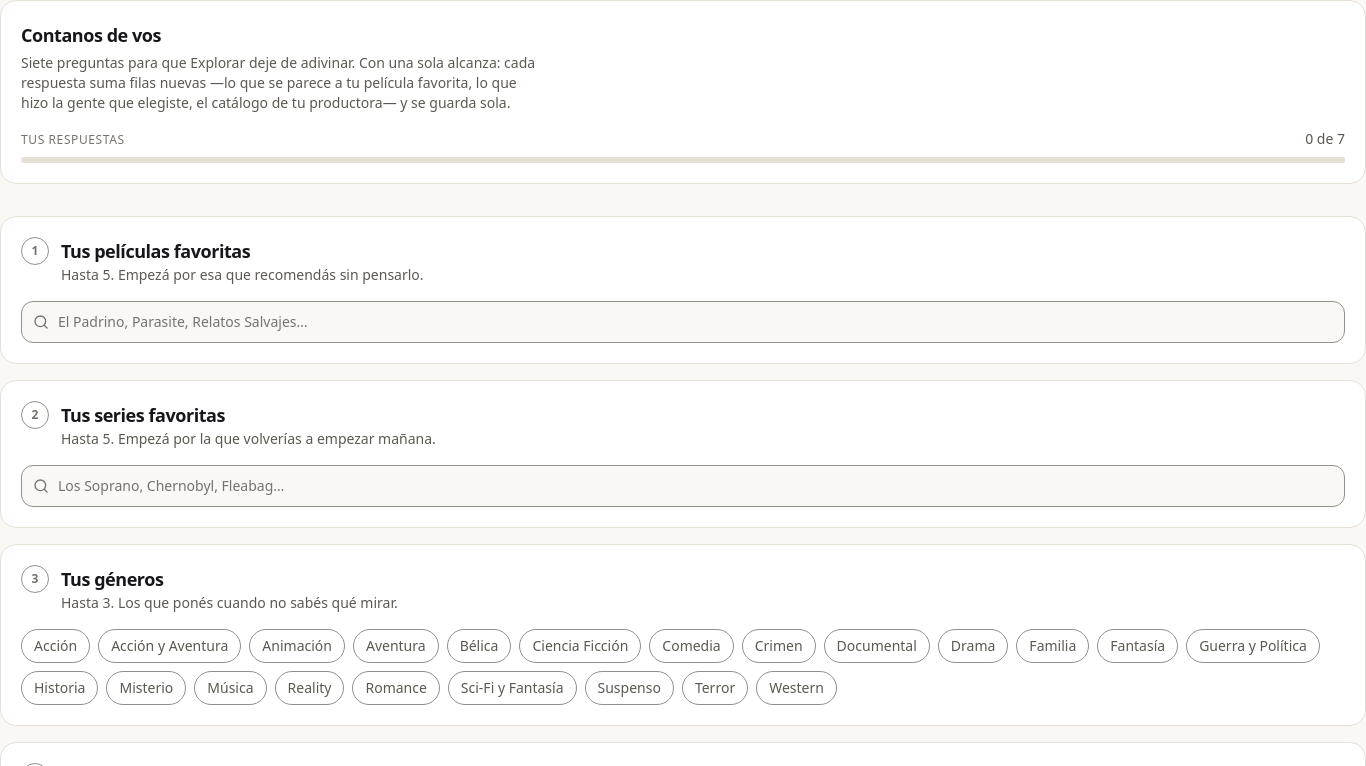
Contanos de vos › guarda el género que se elige y cuenta la respuesta
Click the button "Terror".
click(715, 688)  # box [682,671,748,705]
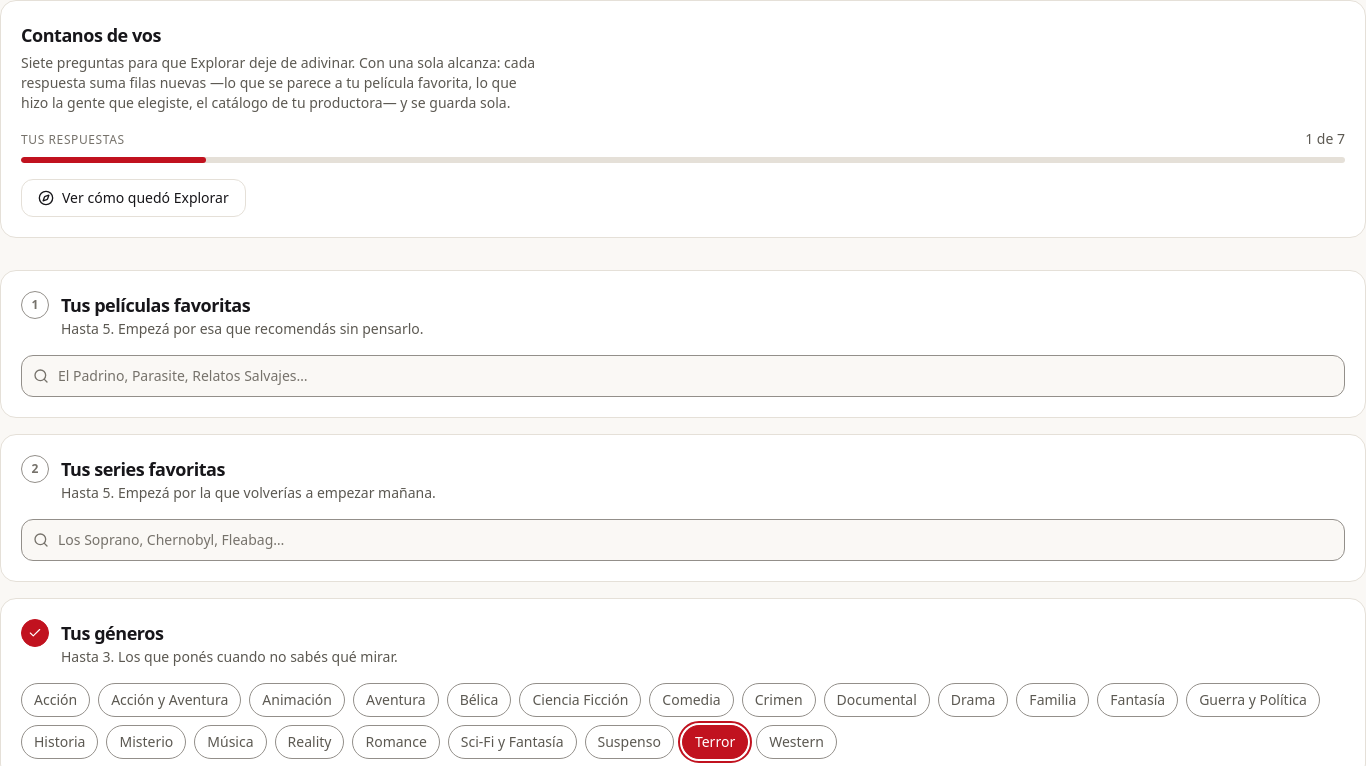
Result: the text "1 de 7" is shown at [1305,129,1345,149]
